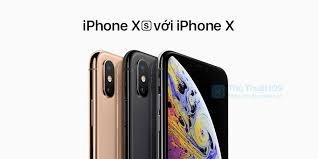iphone10: (156, 49, 231, 159)
